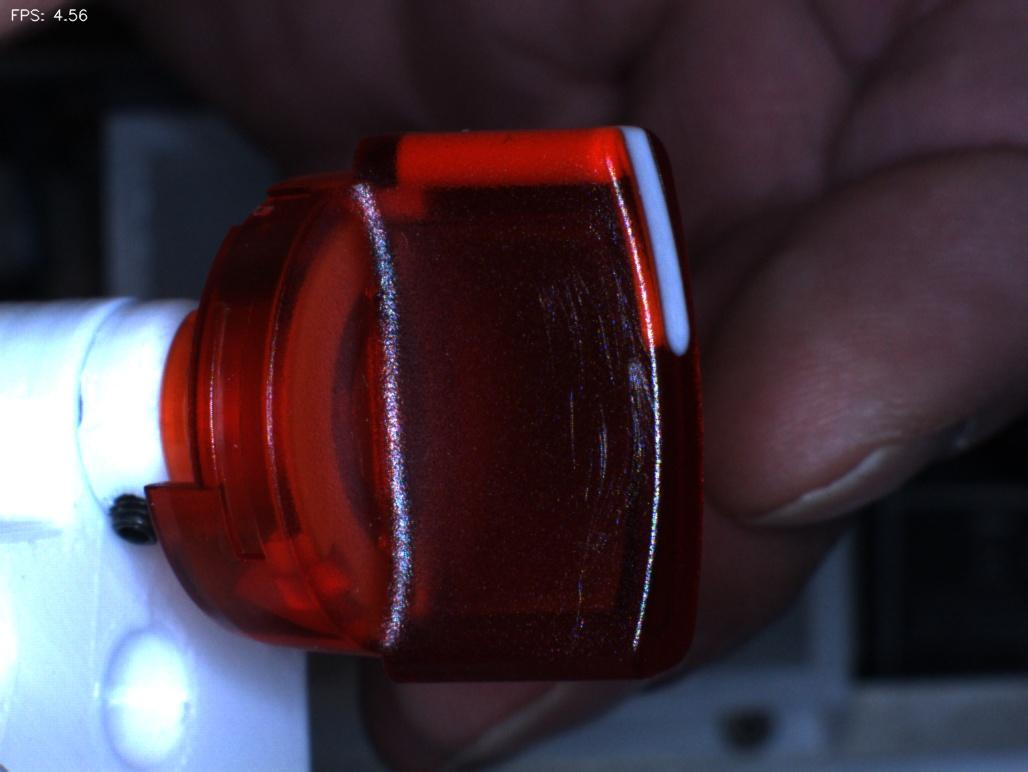Givrage: (530, 244, 648, 493), (533, 508, 631, 660)
